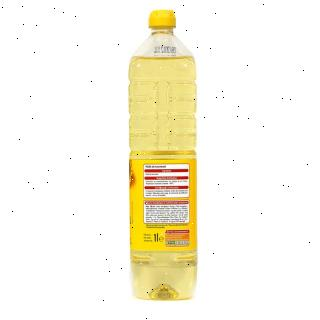Plastic-bottle: (124, 7, 206, 305)
